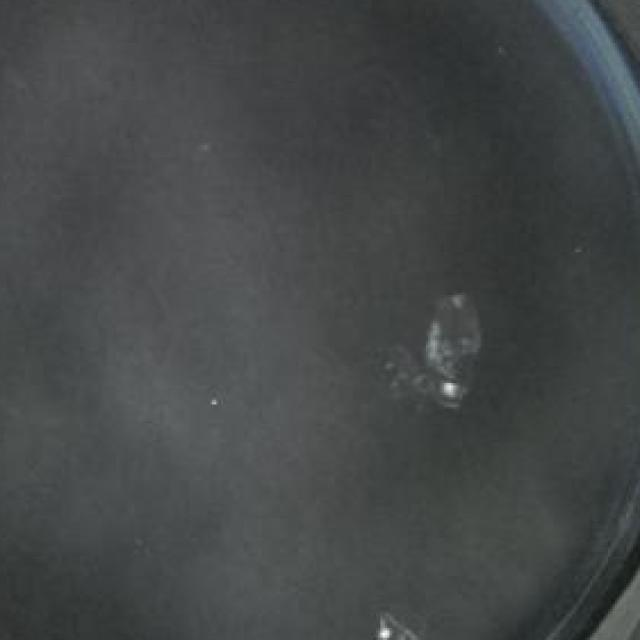Microplastic: (401, 281, 485, 414), (362, 590, 440, 640)
